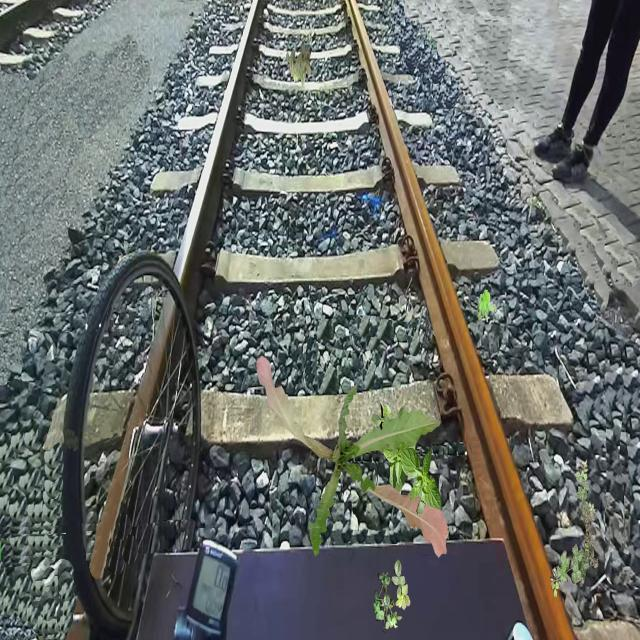Plant: (256, 356, 448, 558), (550, 460, 598, 598), (372, 401, 420, 496), (400, 445, 442, 516), (373, 559, 410, 632), (286, 43, 312, 86), (477, 290, 498, 323)
